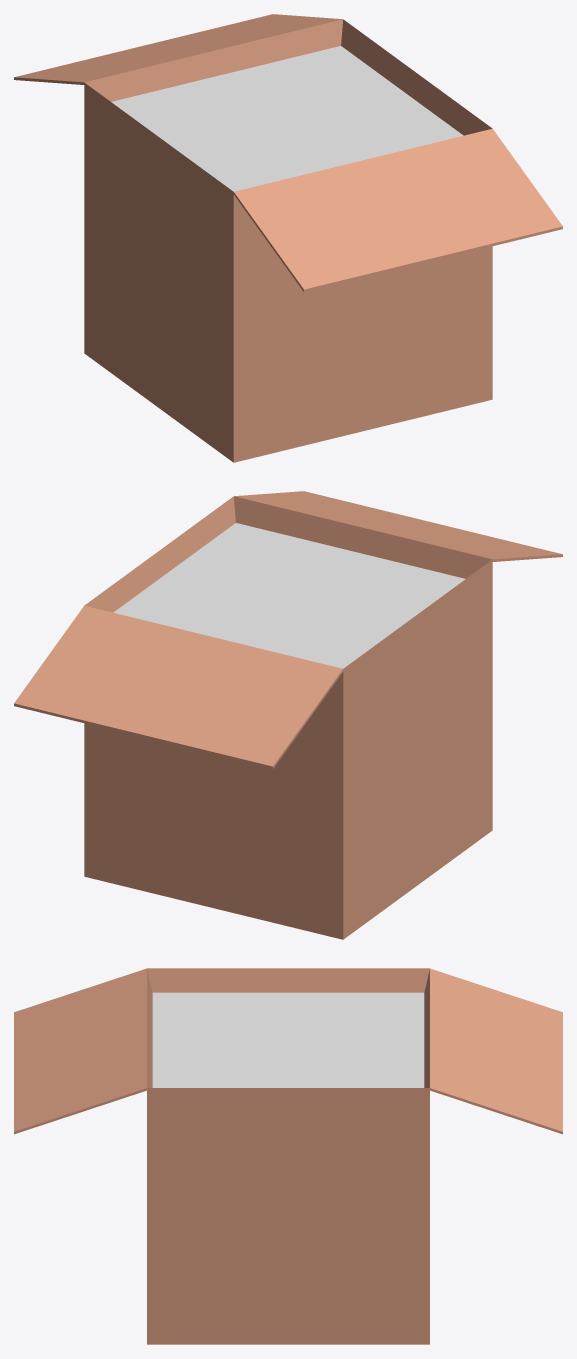
3 views of the same model, one above another, from view 1: azimuth 30°, elevation 25°; view 2: azimuth 150°, elevation 25°; view 3: azimuth 270°, elevation 25° (orthographic). The views are drawn at different scales.
Parts seen in each view (by area): view 1: Cube.001; view 2: Cube.001; view 3: Cube.001.
Part boxes in pixels (x1,y1,x2,y2): Cube.001: (14,14,562,462); Cube.001: (14,491,562,939); Cube.001: (14,968,562,1344).
Bounding box in the file's own units: 1 × 1 × 1.94.
